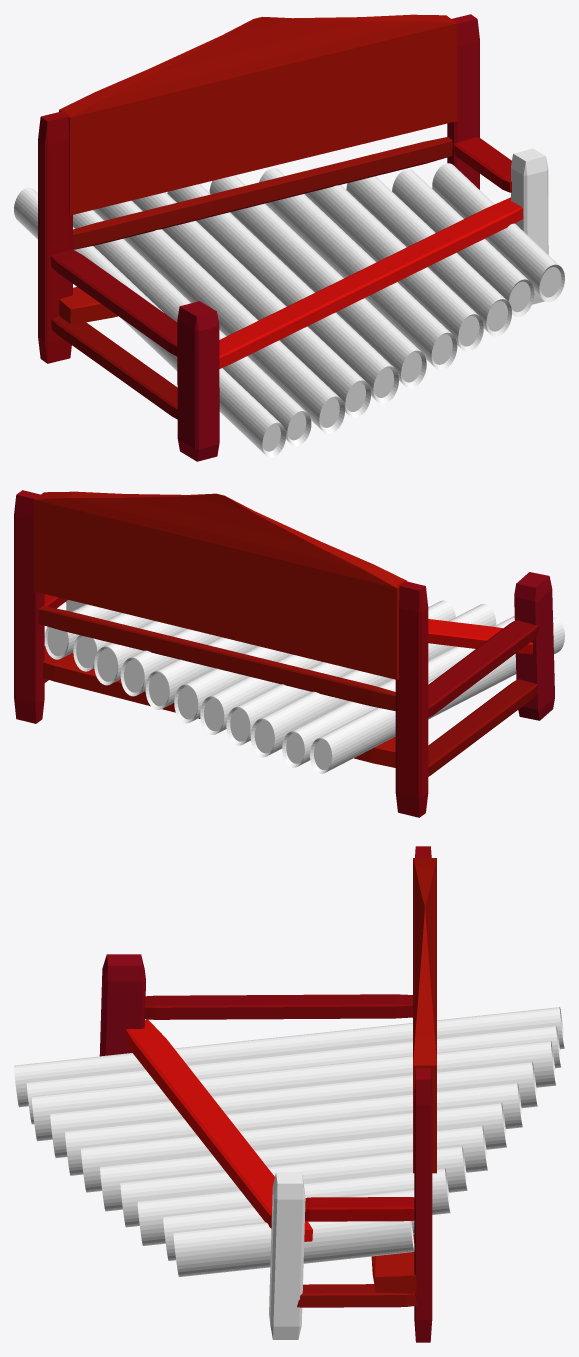
Rendered from scene_angklungbali.gltf.
3 renders of one model, top to bottom at view 1: azimuth 30°, elevation 25°; view 2: azimuth 150°, elevation 25°; view 3: azimuth 270°, elevation 25°, orthographic. The views are drawn at different scales.
Visible parts, largest first — view 1: Cube.004, Cube.011, Cube.003, Cylinder.002, Cylinder.003, Cylinder.004, Cylinder.006, Cylinder.005, Cube.001, Cube.007, Cylinder.007, Cylinder.000 (+10 smaller); view 2: Cube.004, Cube.003, Cube.001, Cube, Cylinder.012, Cube.007, Cylinder.002, Cube.008, Cube.010, Cylinder.000, Cylinder.003, Cube.002 (+8 smaller); view 3: Cylinder.002, Cylinder.012, Cylinder.003, Cylinder.005, Cylinder.010, Cylinder.004, Cube.011, Cylinder.000, Cylinder.006, Cube.008, Cylinder.007, Cube.004 (+8 smaller).
Boxes of the visible parts, x1,y1,x2,y2 form: Cube.004: [59, 14, 457, 215]; Cube.011: [219, 197, 523, 368]; Cube.003: [73, 137, 452, 249]; Cylinder.002: [93, 200, 344, 433]; Cylinder.003: [132, 192, 370, 418]; Cylinder.004: [167, 184, 398, 403]; Cylinder.006: [259, 168, 457, 370]; Cylinder.005: [209, 175, 426, 388]; Cube.001: [38, 111, 72, 363]; Cube.007: [177, 301, 219, 461]; Cylinder.007: [304, 167, 483, 351]; Cylinder.000: [73, 210, 311, 446]; Cube.004: [34, 491, 407, 679]; Cube.003: [38, 606, 395, 710]; Cube.001: [395, 581, 428, 817]; Cube: [14, 490, 44, 723]; Cylinder.012: [310, 617, 564, 773]; Cube.007: [514, 572, 554, 720]; Cylinder.002: [250, 604, 496, 757]; Cube.008: [428, 620, 538, 717]; Cube.010: [428, 679, 537, 776]; Cylinder.000: [282, 616, 514, 767]; Cylinder.003: [226, 600, 455, 745]; Cube.002: [42, 646, 395, 767]; Cylinder.002: [31, 1040, 556, 1141]; Cylinder.012: [14, 1007, 564, 1107]; Cylinder.003: [50, 1061, 537, 1157]; Cylinder.005: [81, 1102, 507, 1192]; Cylinder.010: [173, 1221, 414, 1276]; Cylinder.004: [65, 1082, 522, 1175]; Cube.011: [125, 1019, 312, 1241]; Cylinder.000: [26, 1025, 561, 1124]; Cylinder.006: [100, 1125, 488, 1211]; Cube.008: [144, 994, 412, 1019]; Cylinder.007: [120, 1146, 467, 1227]; Cube.004: [413, 858, 436, 1173].
Bounding box in the file's own units: 5.98 × 3.77 × 5.9.
